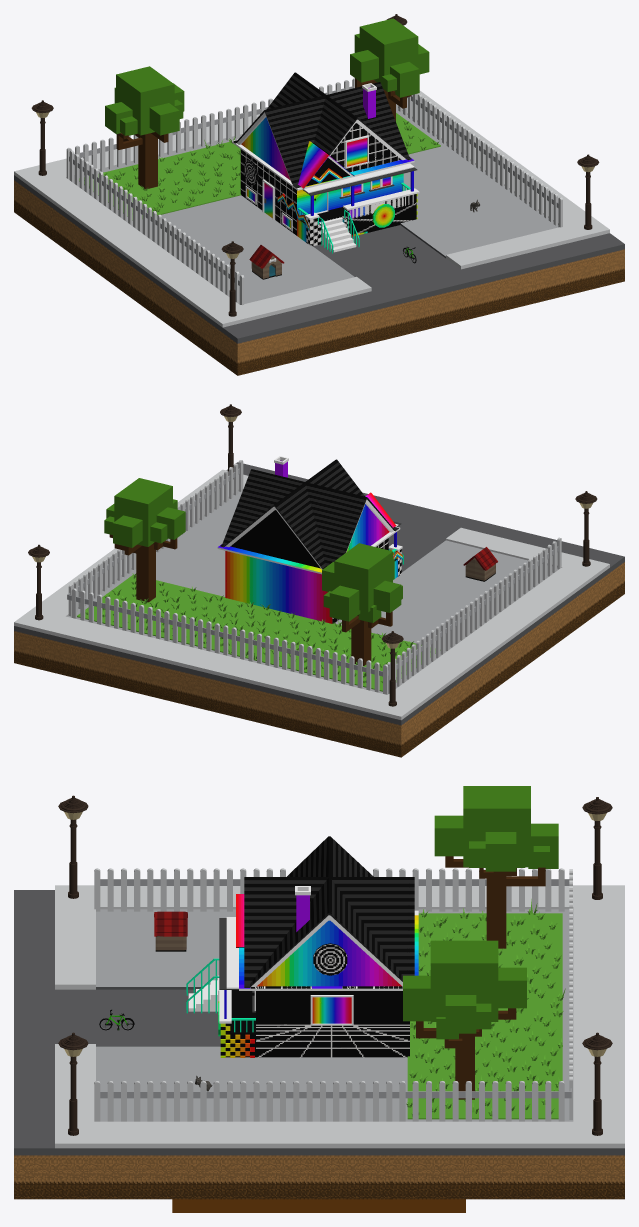
3 views of the same model, one above another, from view 1: azimuth 30°, elevation 25°; view 2: azimuth 150°, elevation 25°; view 3: azimuth 270°, elevation 25° (orthographic). The views are drawn at different scales.
Parts seen in each view (by area): view 1: Cube.004, Cube.1320, OBJRANDOM_DOGHOUSE; view 2: Cube.004, Cube.1320, OBJRANDOM_DOGHOUSE; view 3: Cube.004, Cube.1320, UNDERGROUND_ART_PIECE_VAN_GOGH, OBJRANDOM_DOGHOUSE.
Boxes of the visible parts, <box> form: Cube.004: <box>14,14,624,375</box>; Cube.1320: <box>232,72,419,253</box>; OBJRANDOM_DOGHOUSE: <box>249,245,284,279</box>; Cube.004: <box>14,404,624,757</box>; Cube.1320: <box>217,456,403,623</box>; OBJRANDOM_DOGHOUSE: <box>463,547,497,581</box>; Cube.004: <box>14,786,624,1199</box>; Cube.1320: <box>186,836,418,1057</box>; UNDERGROUND_ART_PIECE_VAN_GOGH: <box>172,1199,465,1212</box>; OBJRANDOM_DOGHOUSE: <box>154,911,187,951</box>.
Size of the model in its own units: 4000 by 1726 by 4000.
Materials: 34 (6 with a texture image).
